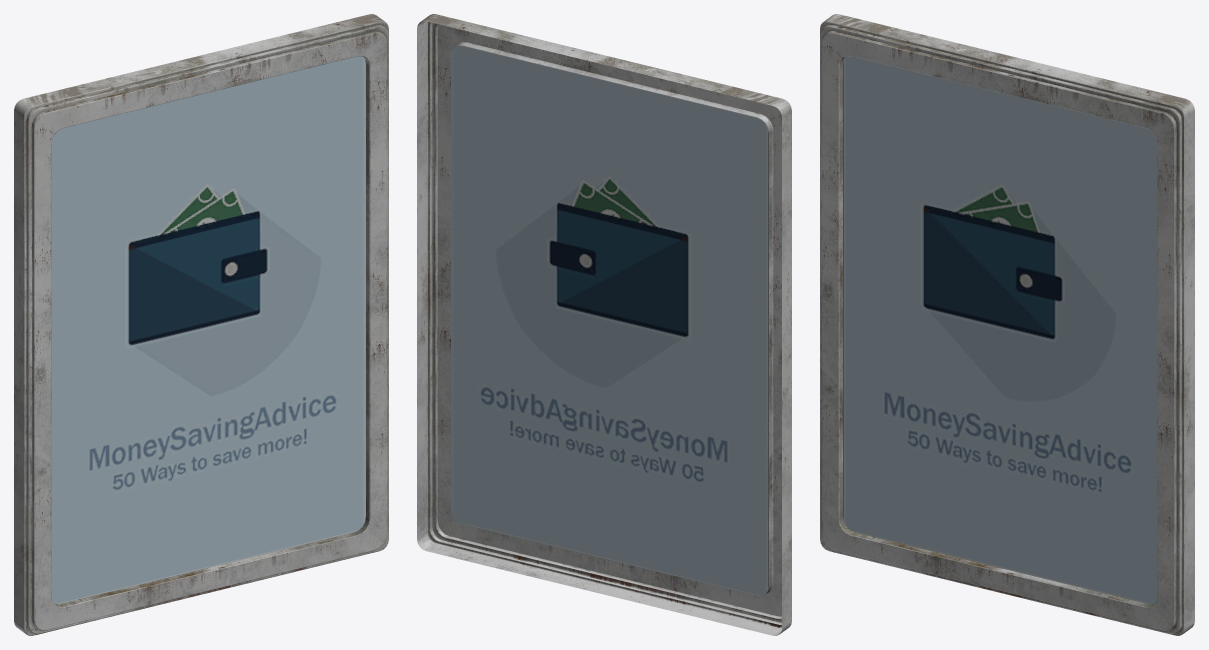
Rendered from SM_Billboard02.glb.
3 renders of one model, left to right at view 1: azimuth 30°, elevation 25°; view 2: azimuth 150°, elevation 25°; view 3: azimuth 330°, elevation 25°, orthographic.
Parts seen in each view (by area): view 1: SM_Billboard02; view 2: SM_Billboard02; view 3: SM_Billboard02.
Part boxes in pixels (left/top/right/bottom): SM_Billboard02: left=14, top=14, right=388, bottom=635; SM_Billboard02: left=417, top=14, right=791, bottom=635; SM_Billboard02: left=820, top=14, right=1194, bottom=635.
Bounding box in the file's own units: 1.55 × 2.15 × 0.105.
Materials: 2 (2 with a texture image).
